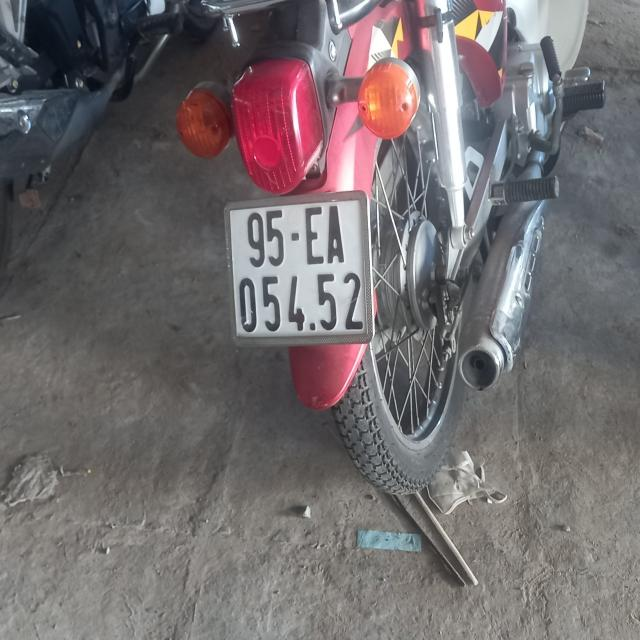0: (239, 277, 257, 333)
2: (344, 272, 364, 331)
4: (288, 276, 304, 332)
5: (317, 272, 337, 330), (261, 277, 281, 332), (265, 209, 284, 265)
9: (248, 212, 266, 268)
A: (327, 206, 344, 264)
E: (305, 207, 324, 264)
